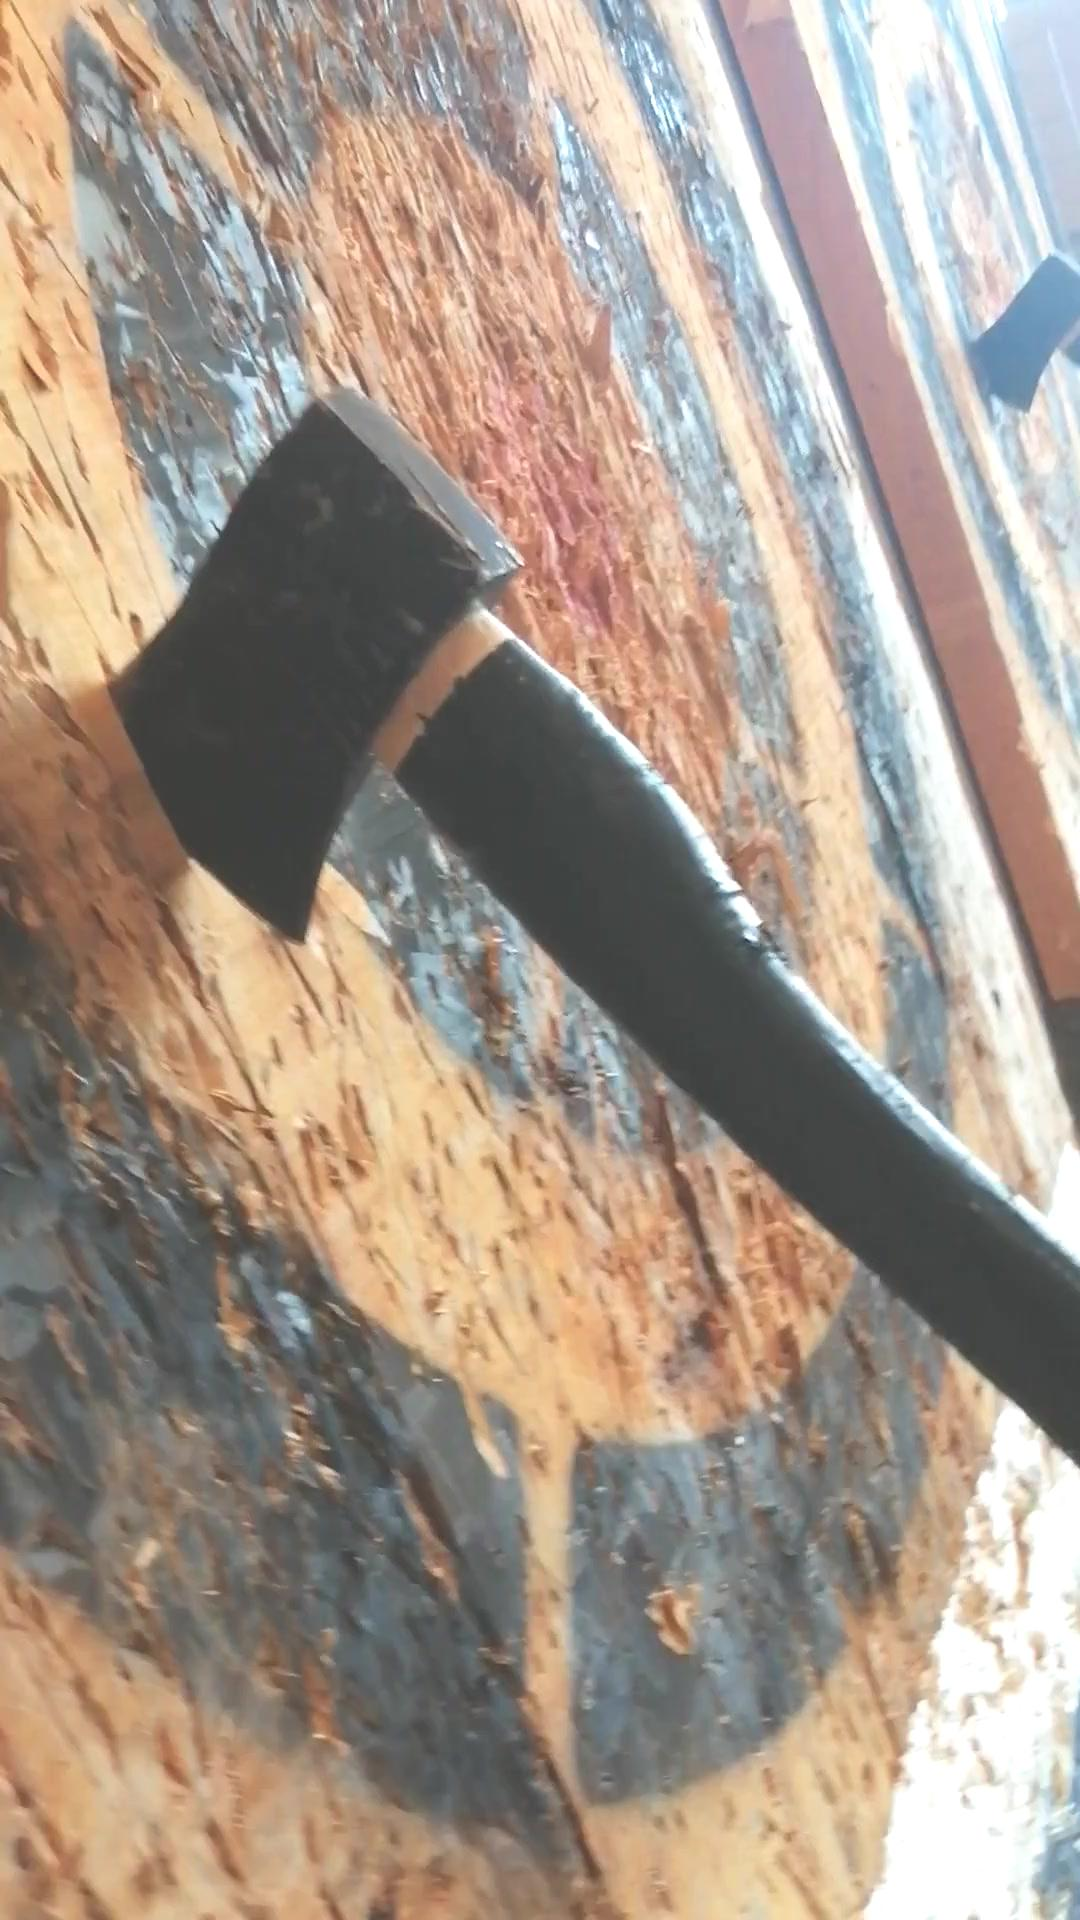Hand Axe: (121, 388, 530, 948)
